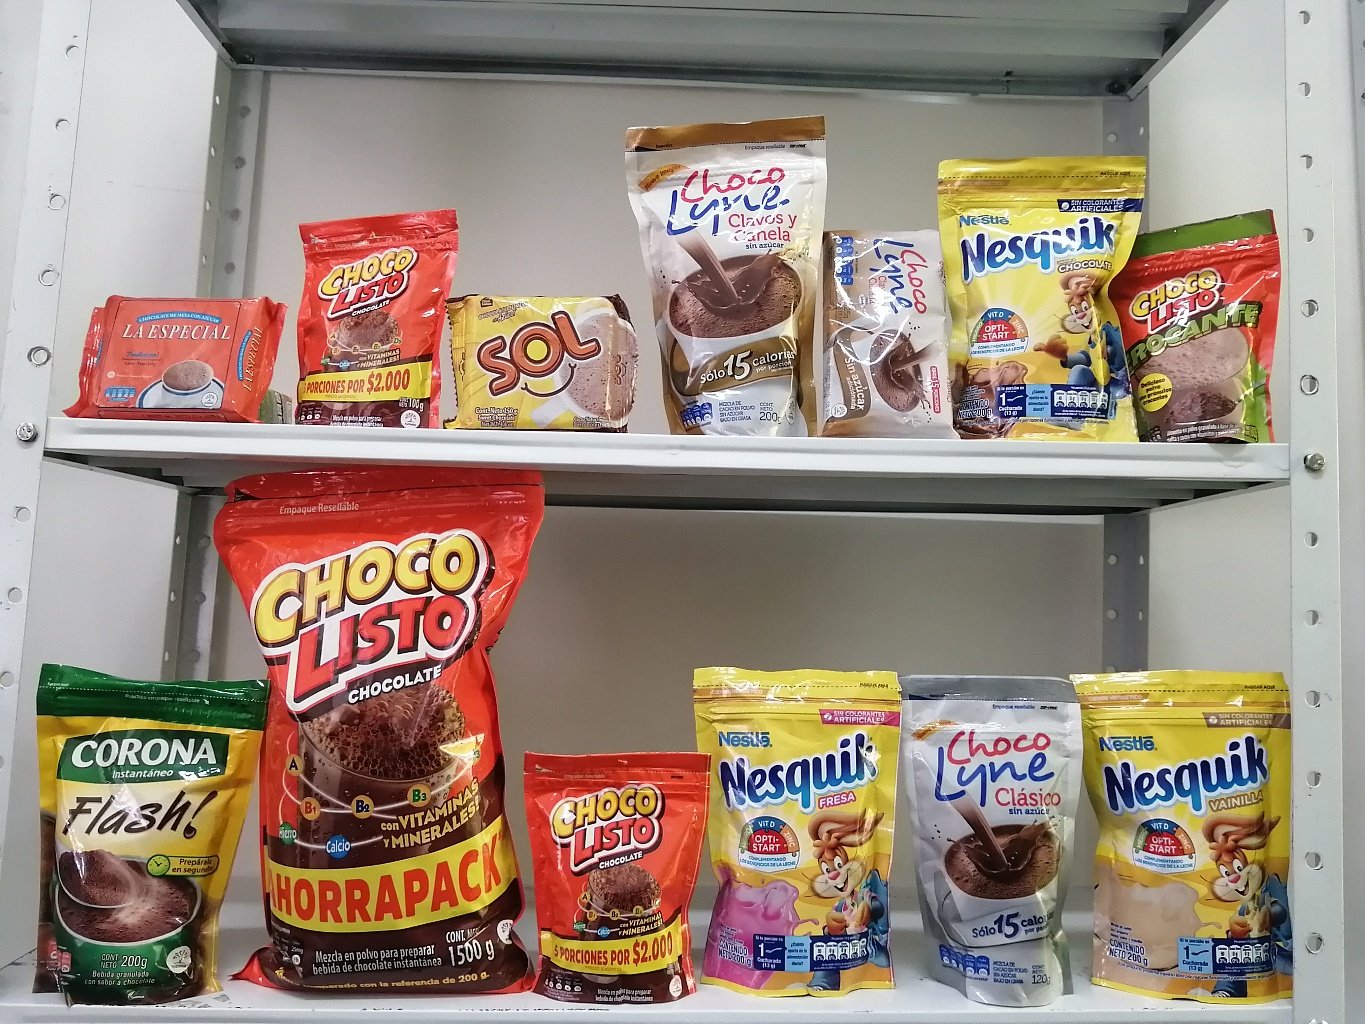COL0170102DYP10000: (1096, 202, 1300, 447)
COL0170103DYP1,500: (194, 446, 549, 1011)
COL0170103DYP10000: (283, 193, 460, 439)
COL0170303DYP20000: (923, 148, 1170, 447)
COL0170305DYP20000: (677, 653, 916, 1010)
COL0170306DYP20000: (1060, 643, 1317, 1018)
